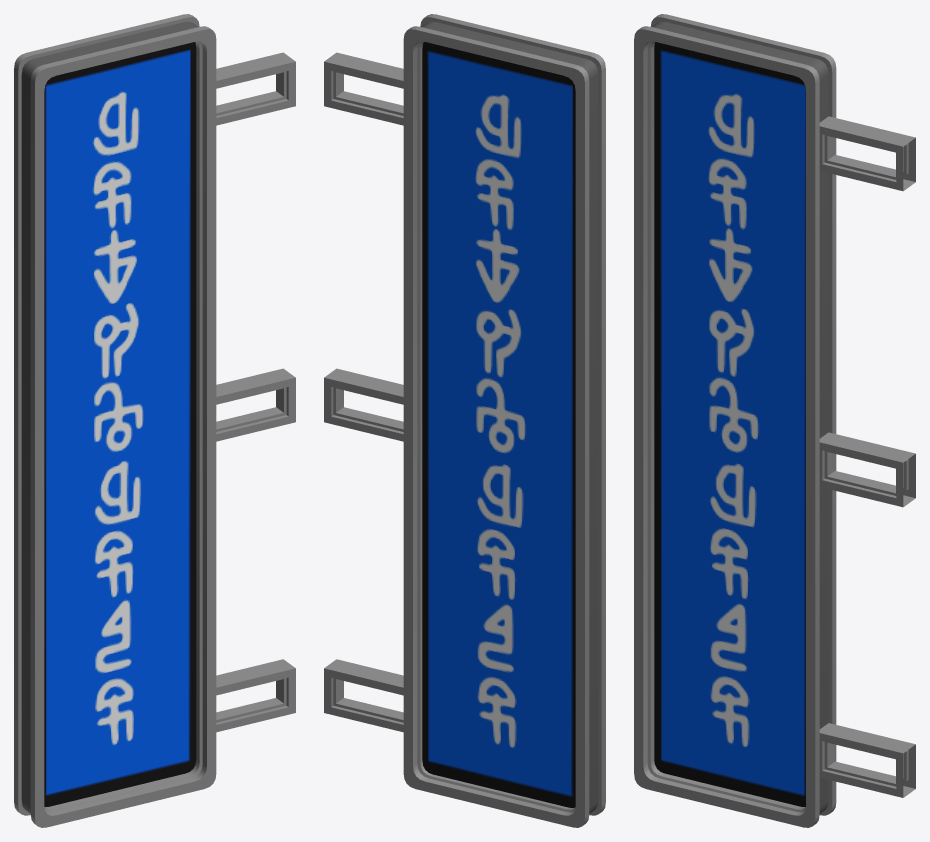
The picture shows the model from 3 angles, left to right: view 1: azimuth 30°, elevation 25°; view 2: azimuth 150°, elevation 25°; view 3: azimuth 330°, elevation 25°; orthographic projection.
Parts seen in each view (by area): view 1: MS_4M_5; view 2: MS_4M_5; view 3: MS_4M_5.
Part boxes in pixels (x1,y1,x2,y2): MS_4M_5: (14, 14, 295, 827); MS_4M_5: (324, 14, 605, 827); MS_4M_5: (634, 14, 915, 827).
Size of the model in its own units: 146 by 400 by 19.93.
